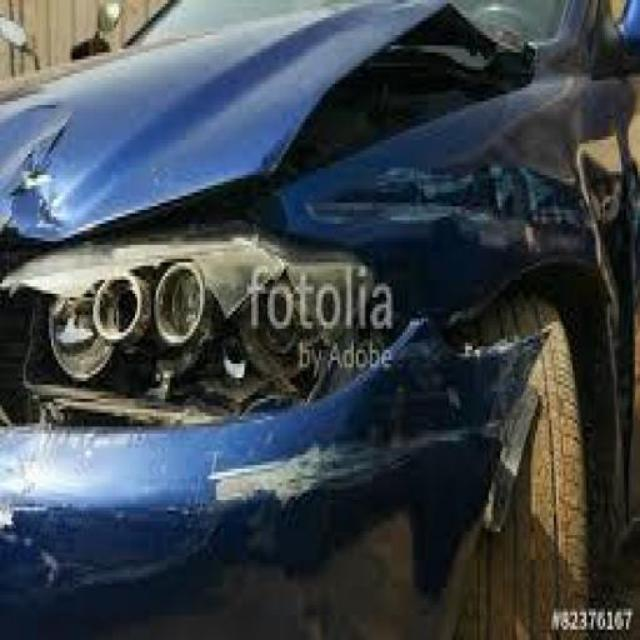dislocated part: (2, 2, 614, 630)
